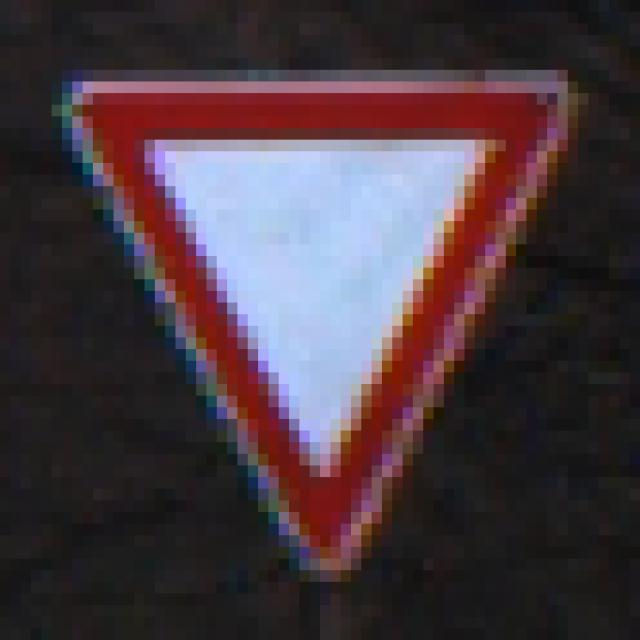Give Way: (53, 59, 590, 583)
